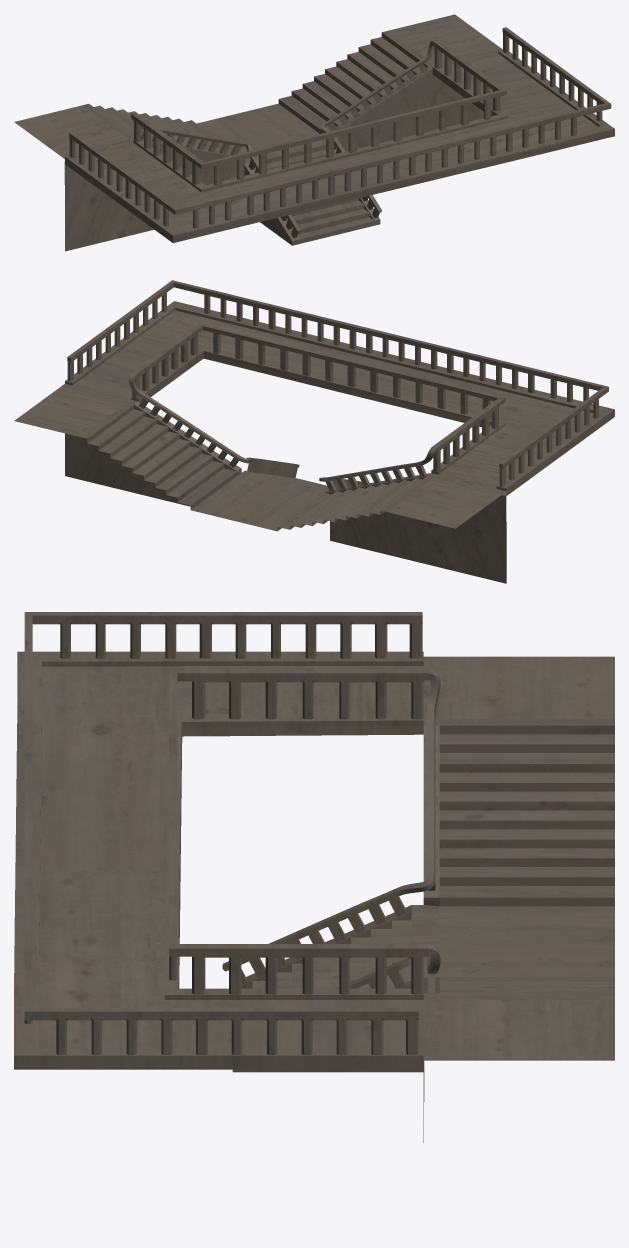
Rendered from Stairs.fbx.
The picture shows the model from 3 angles, top to bottom: view 1: azimuth 30°, elevation 25°; view 2: azimuth 150°, elevation 25°; view 3: azimuth 270°, elevation 25°; orthographic projection. The views are drawn at different scales.
Visible parts, largest first — view 1: Stairs; view 2: Stairs; view 3: Stairs.
Part boxes in pixels (<box>): Stairs: <box>14,14,614,251</box>; Stairs: <box>14,280,614,583</box>; Stairs: <box>14,612,614,1142</box>.
Size of the model in its own units: 1500 by 388 by 943.
Materials: 1 (1 with a texture image).
